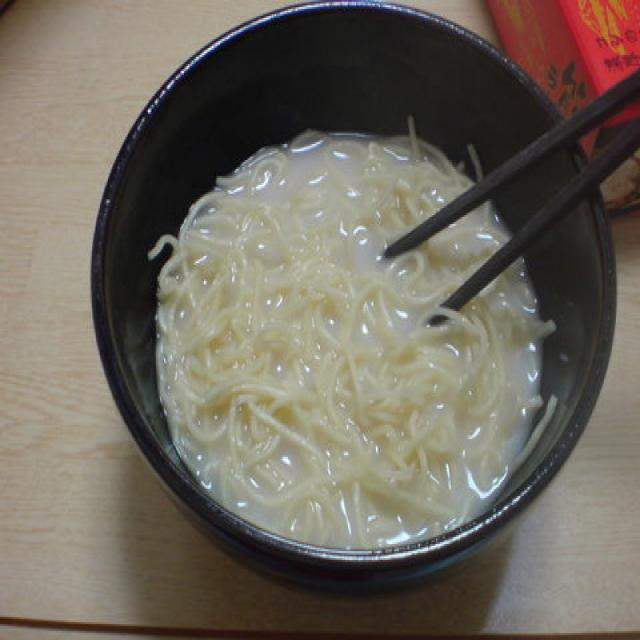面条主食: (88, 0, 617, 599)
